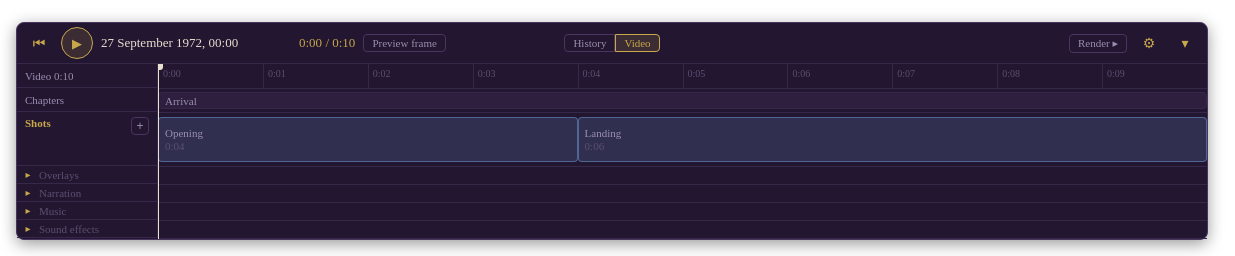
Test: Video mode › double-clicking a shot opens it; ← All shots goes back
Double-click the element showing "Landing 0:06".
double_click(892, 140)  # box [578,117,1207,162]
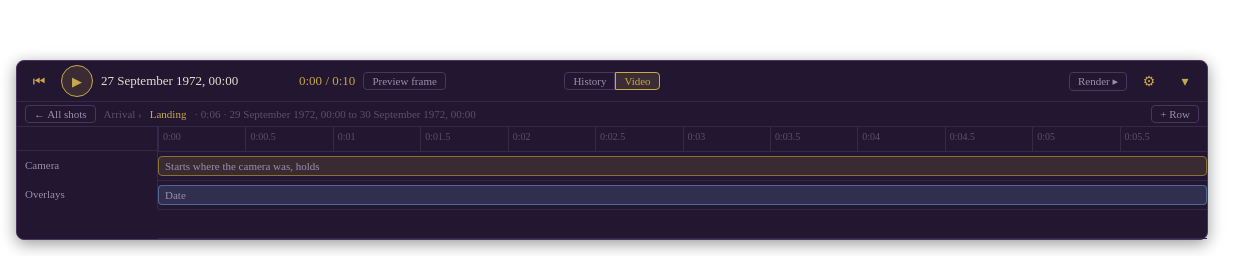
Result: the text "← All shots" is shown
Result: the text "Camera" is shown at [25,159,59,171]
Click the button "← All shots".
click(60, 114)  # box [25,105,96,123]
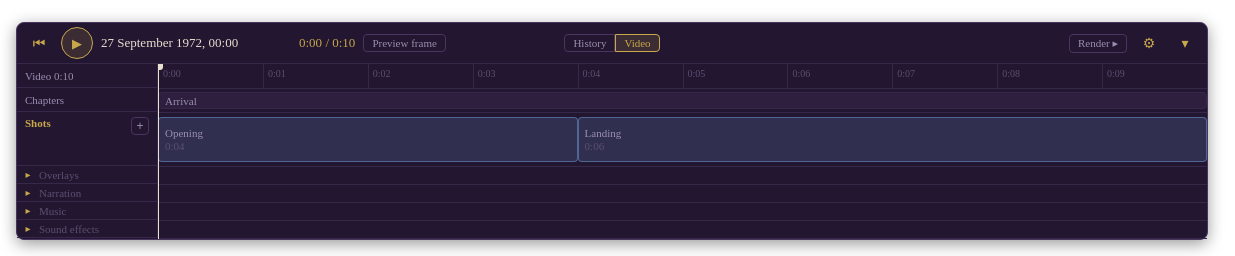
Result: the text "Chapters" is shown at [17,88,157,112]
